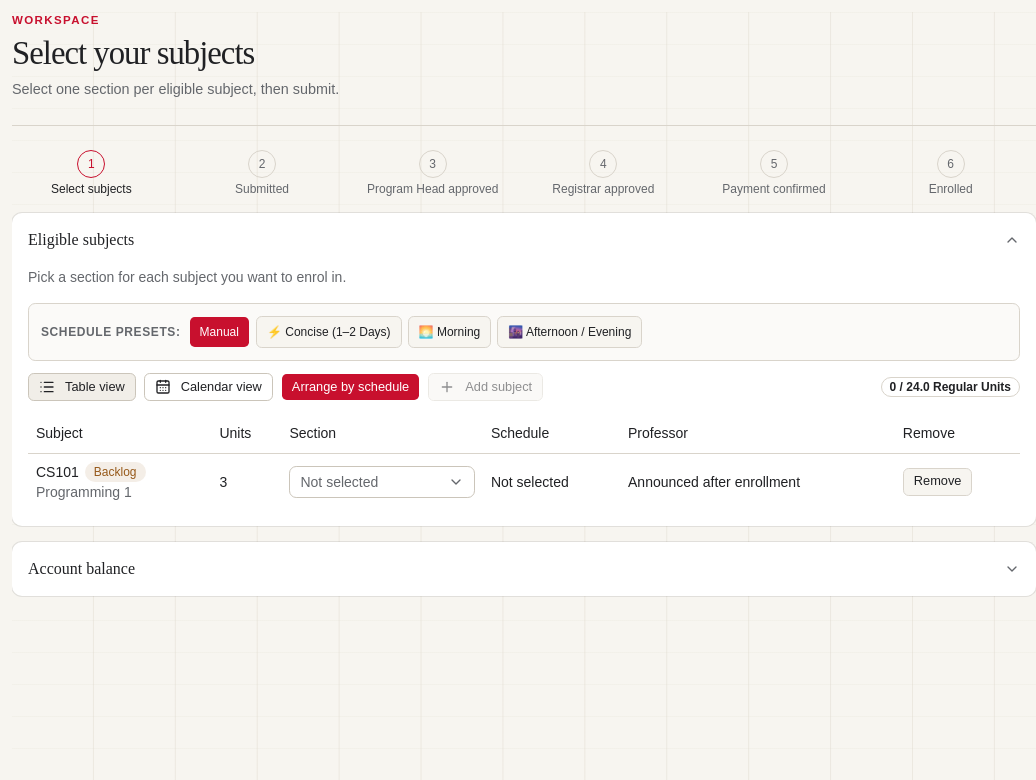
Test case: EnrollmentWorkspace › lets an irregular student choose a cross-department section for a shared subject
This screenshot has width=1036, height=780.
Click the dropdown named "CS101 section".
click(382, 482)  # box [290,466,475,498]
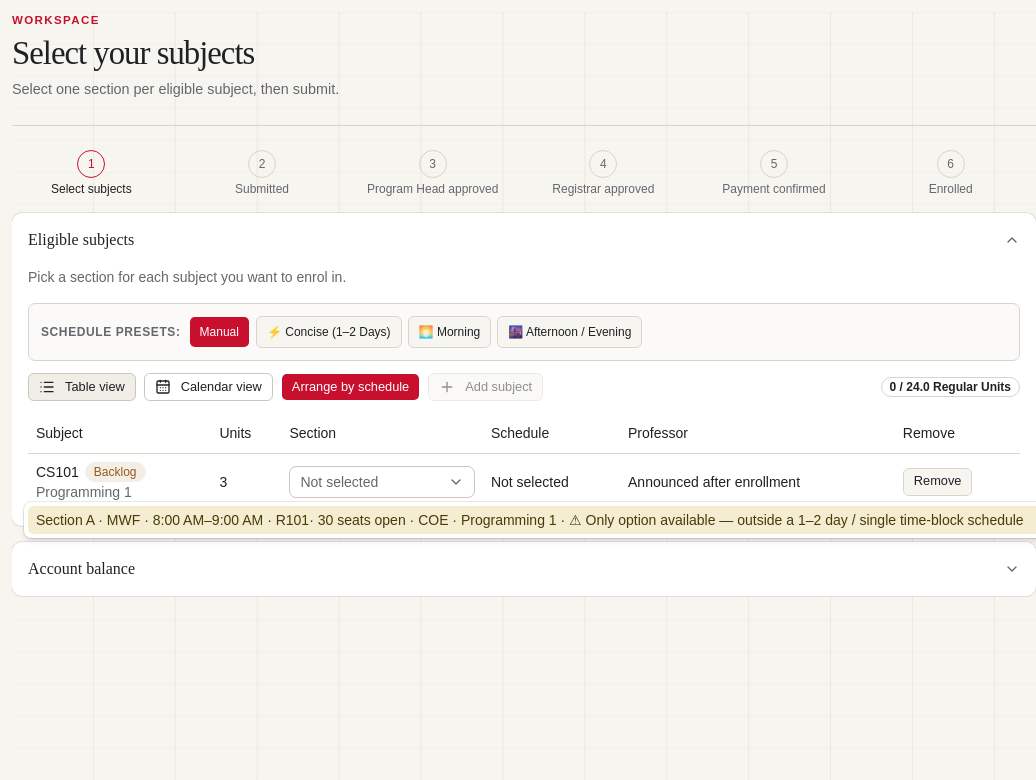
Click the option.
click(532, 520)  # box [28,506,1035,534]
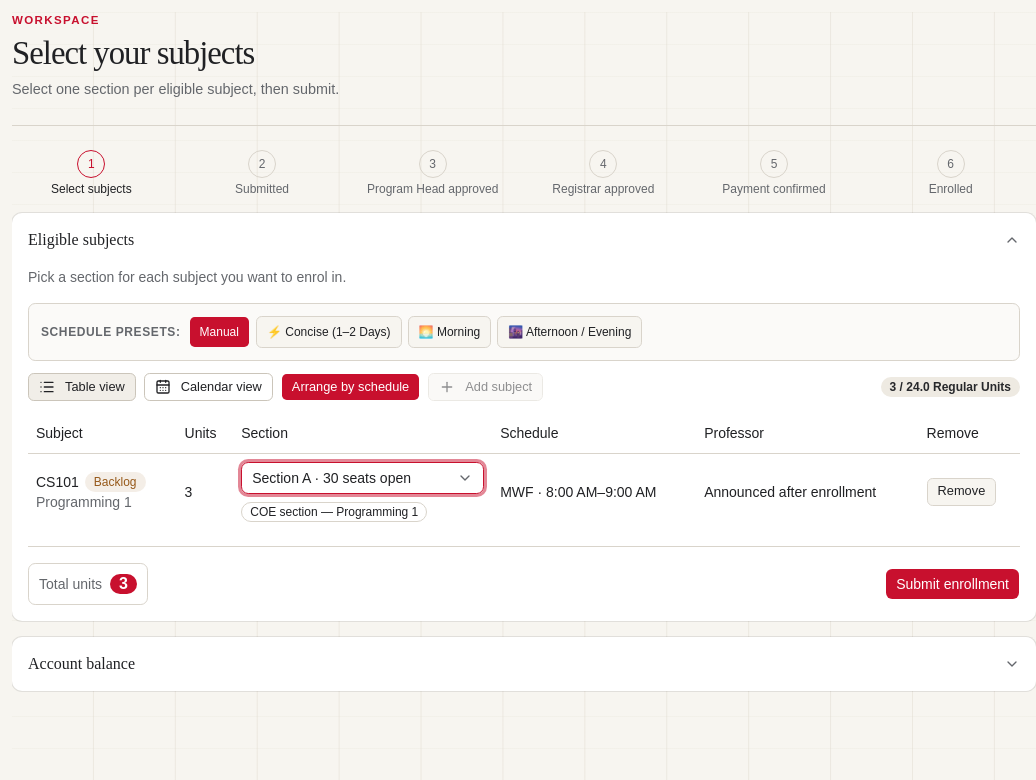
expect the text "COE section — Programming 1" is shown: met, box [241,502,427,522]
